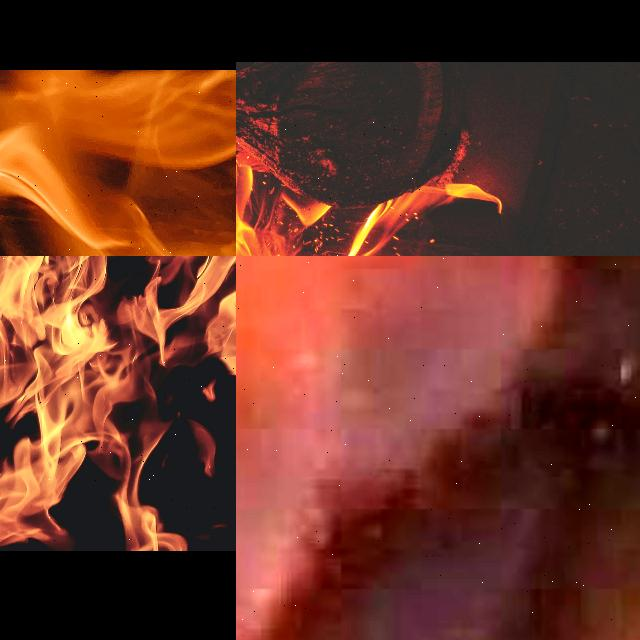fire: (0, 256, 210, 541), (0, 70, 236, 256), (347, 183, 502, 256)
smoke: (236, 256, 640, 640)
